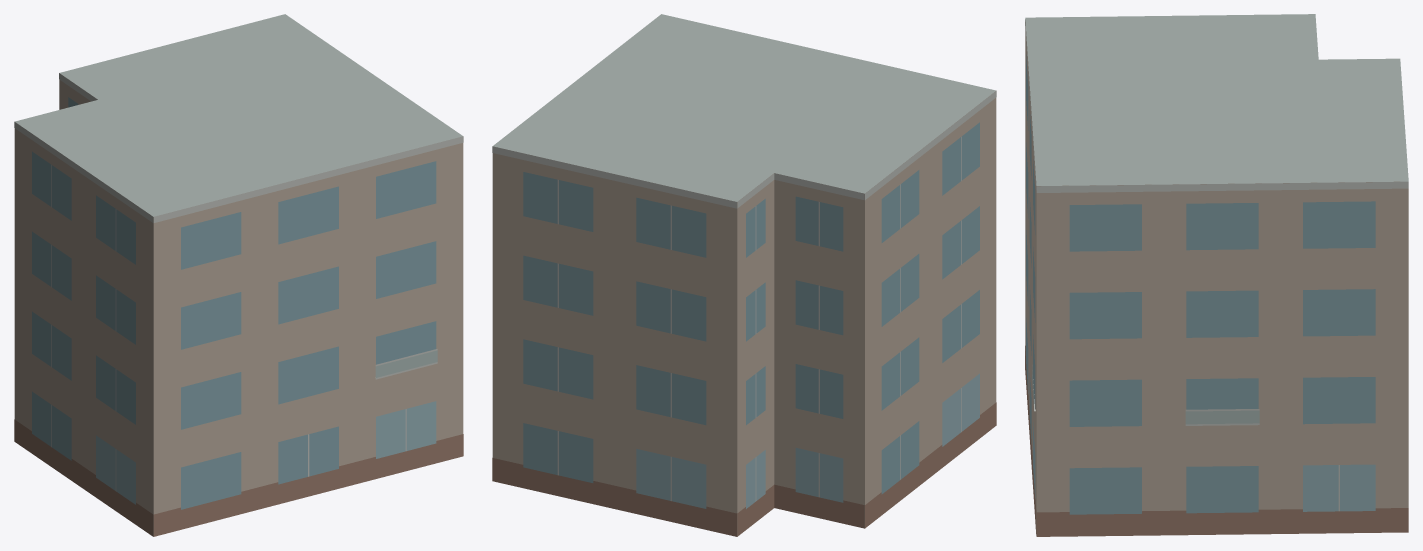
Rendered from residential-f8947e6f-f20d-4b2e-82af-fd6ebe21c147.glb.
The picture shows the model from 3 angles, left to right: view 1: azimuth 30°, elevation 25°; view 2: azimuth 150°, elevation 25°; view 3: azimuth 270°, elevation 25°; orthographic projection. The views are drawn at different scales.
Visible parts, largest first — view 1: residential-f8947e6f-f20d-4b2e-82af-fd6ebe21c147.tmp; view 2: residential-f8947e6f-f20d-4b2e-82af-fd6ebe21c147.tmp; view 3: residential-f8947e6f-f20d-4b2e-82af-fd6ebe21c147.tmp.
Part boxes in pixels (<box>): residential-f8947e6f-f20d-4b2e-82af-fd6ebe21c147.tmp: <box>14,14,463,536</box>; residential-f8947e6f-f20d-4b2e-82af-fd6ebe21c147.tmp: <box>492,14,996,536</box>; residential-f8947e6f-f20d-4b2e-82af-fd6ebe21c147.tmp: <box>1025,14,1408,536</box>.
Bounding box in the file's own units: 12.85 × 12.2 × 12.1.
